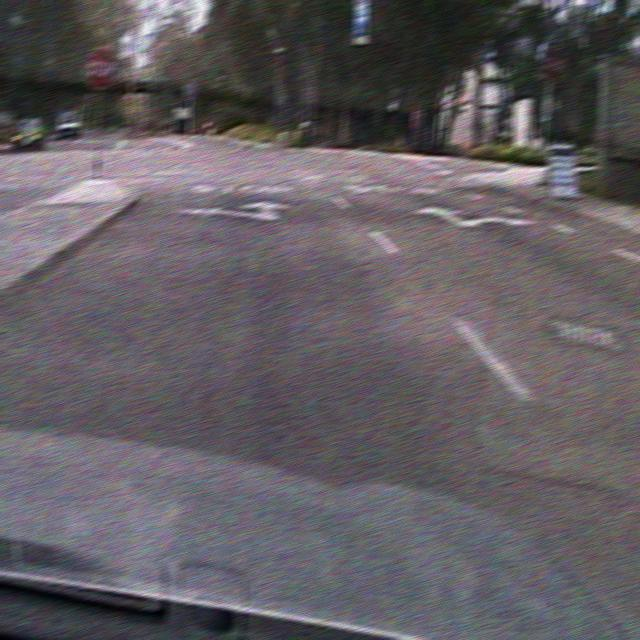stop: (84, 45, 118, 91)
